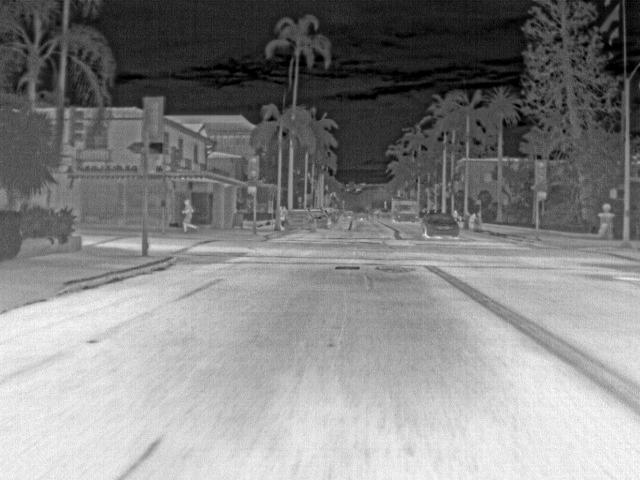car: (421, 212, 460, 238), (286, 209, 316, 233), (390, 199, 417, 220), (313, 209, 328, 230), (325, 207, 339, 222), (344, 208, 356, 220)
person: (180, 196, 199, 232), (465, 212, 480, 232)
